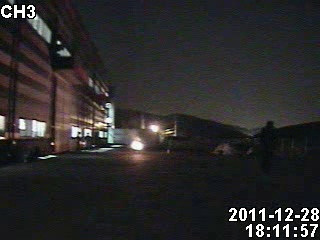fire: (125, 134, 152, 154)
